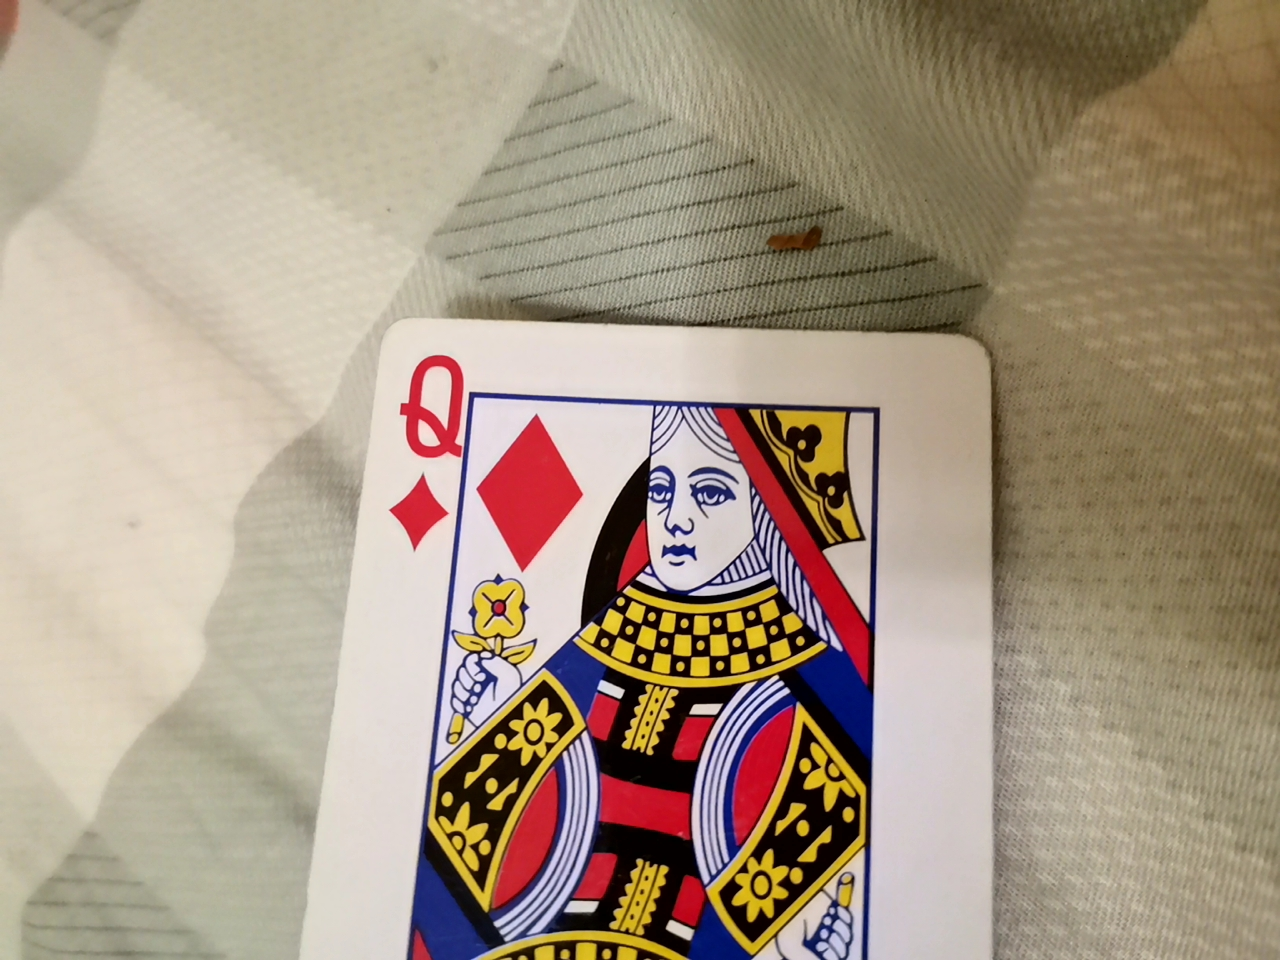fk q: (296, 326, 994, 960)
